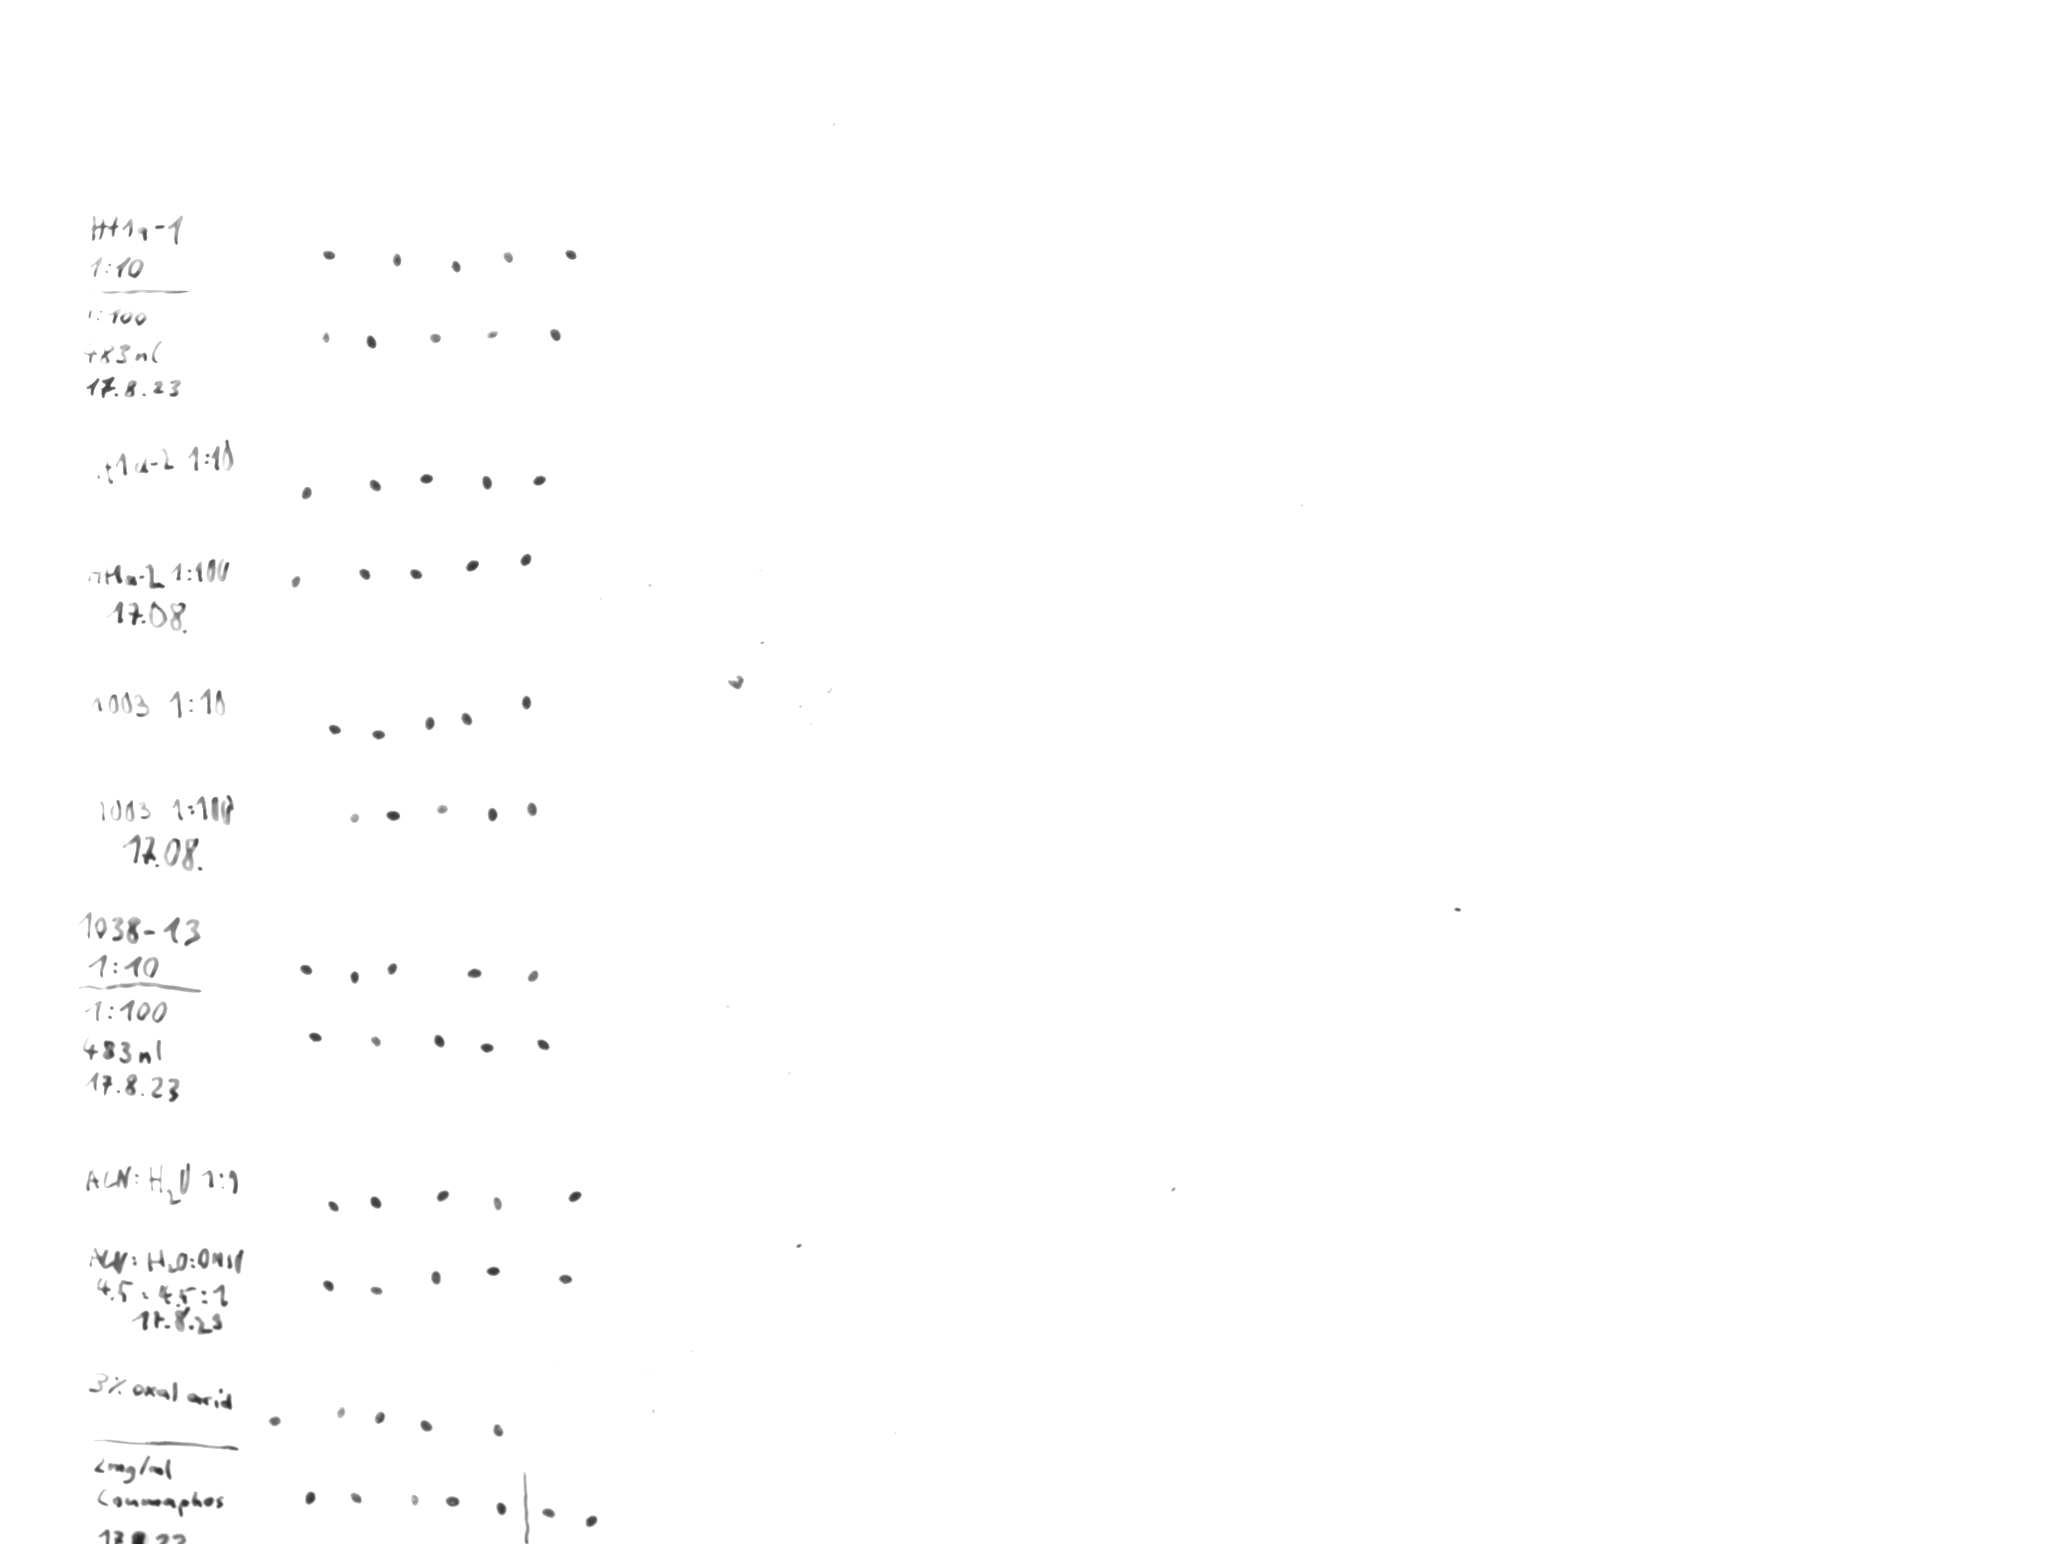varroa: (514, 547, 539, 571), (381, 955, 405, 976), (380, 805, 405, 824), (416, 468, 439, 488), (545, 326, 569, 344), (456, 706, 476, 727), (360, 333, 381, 352), (522, 800, 544, 818), (463, 964, 486, 981), (464, 555, 483, 575), (478, 470, 495, 492), (426, 1268, 445, 1287), (355, 565, 375, 583), (369, 725, 390, 742), (421, 710, 437, 732), (366, 1192, 384, 1211), (263, 1411, 283, 1428), (477, 1038, 498, 1054), (565, 1189, 586, 1205), (517, 693, 535, 711), (345, 967, 363, 985), (492, 1498, 510, 1516), (296, 484, 315, 501), (366, 478, 385, 495), (371, 1405, 387, 1425), (442, 1494, 463, 1509), (481, 1263, 503, 1277), (325, 722, 344, 738), (324, 1198, 343, 1214), (419, 1416, 436, 1433), (485, 806, 501, 824), (490, 1421, 506, 1439), (319, 248, 338, 263), (288, 572, 303, 591), (308, 1031, 327, 1046), (347, 1490, 366, 1505), (345, 811, 365, 825), (432, 803, 457, 814), (535, 1036, 552, 1052), (320, 1278, 337, 1294), (301, 1489, 318, 1505), (531, 472, 549, 487), (556, 1272, 574, 1287), (484, 326, 503, 340), (366, 1283, 385, 1297), (436, 1188, 452, 1204), (541, 1504, 558, 1519), (298, 963, 316, 977), (390, 250, 403, 269), (317, 330, 333, 345), (408, 566, 425, 580), (525, 968, 540, 983), (431, 1034, 448, 1047), (564, 248, 579, 262), (491, 1195, 505, 1210), (584, 1514, 599, 1528), (335, 1406, 348, 1421), (428, 333, 444, 344), (450, 260, 463, 273), (371, 1034, 383, 1048), (408, 1494, 422, 1506), (503, 249, 514, 264)
